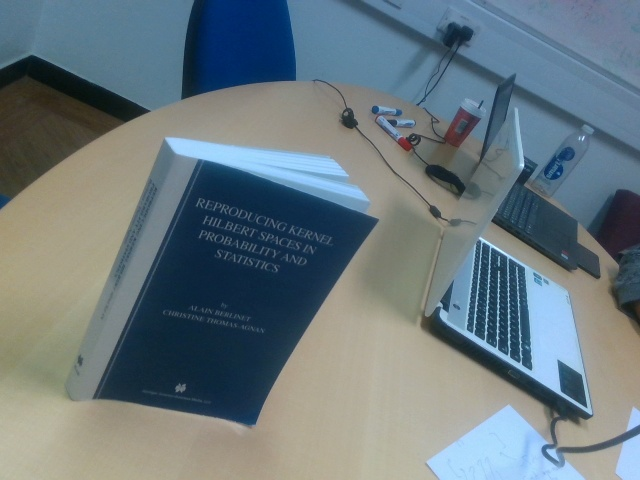book: (62, 136, 379, 428)
